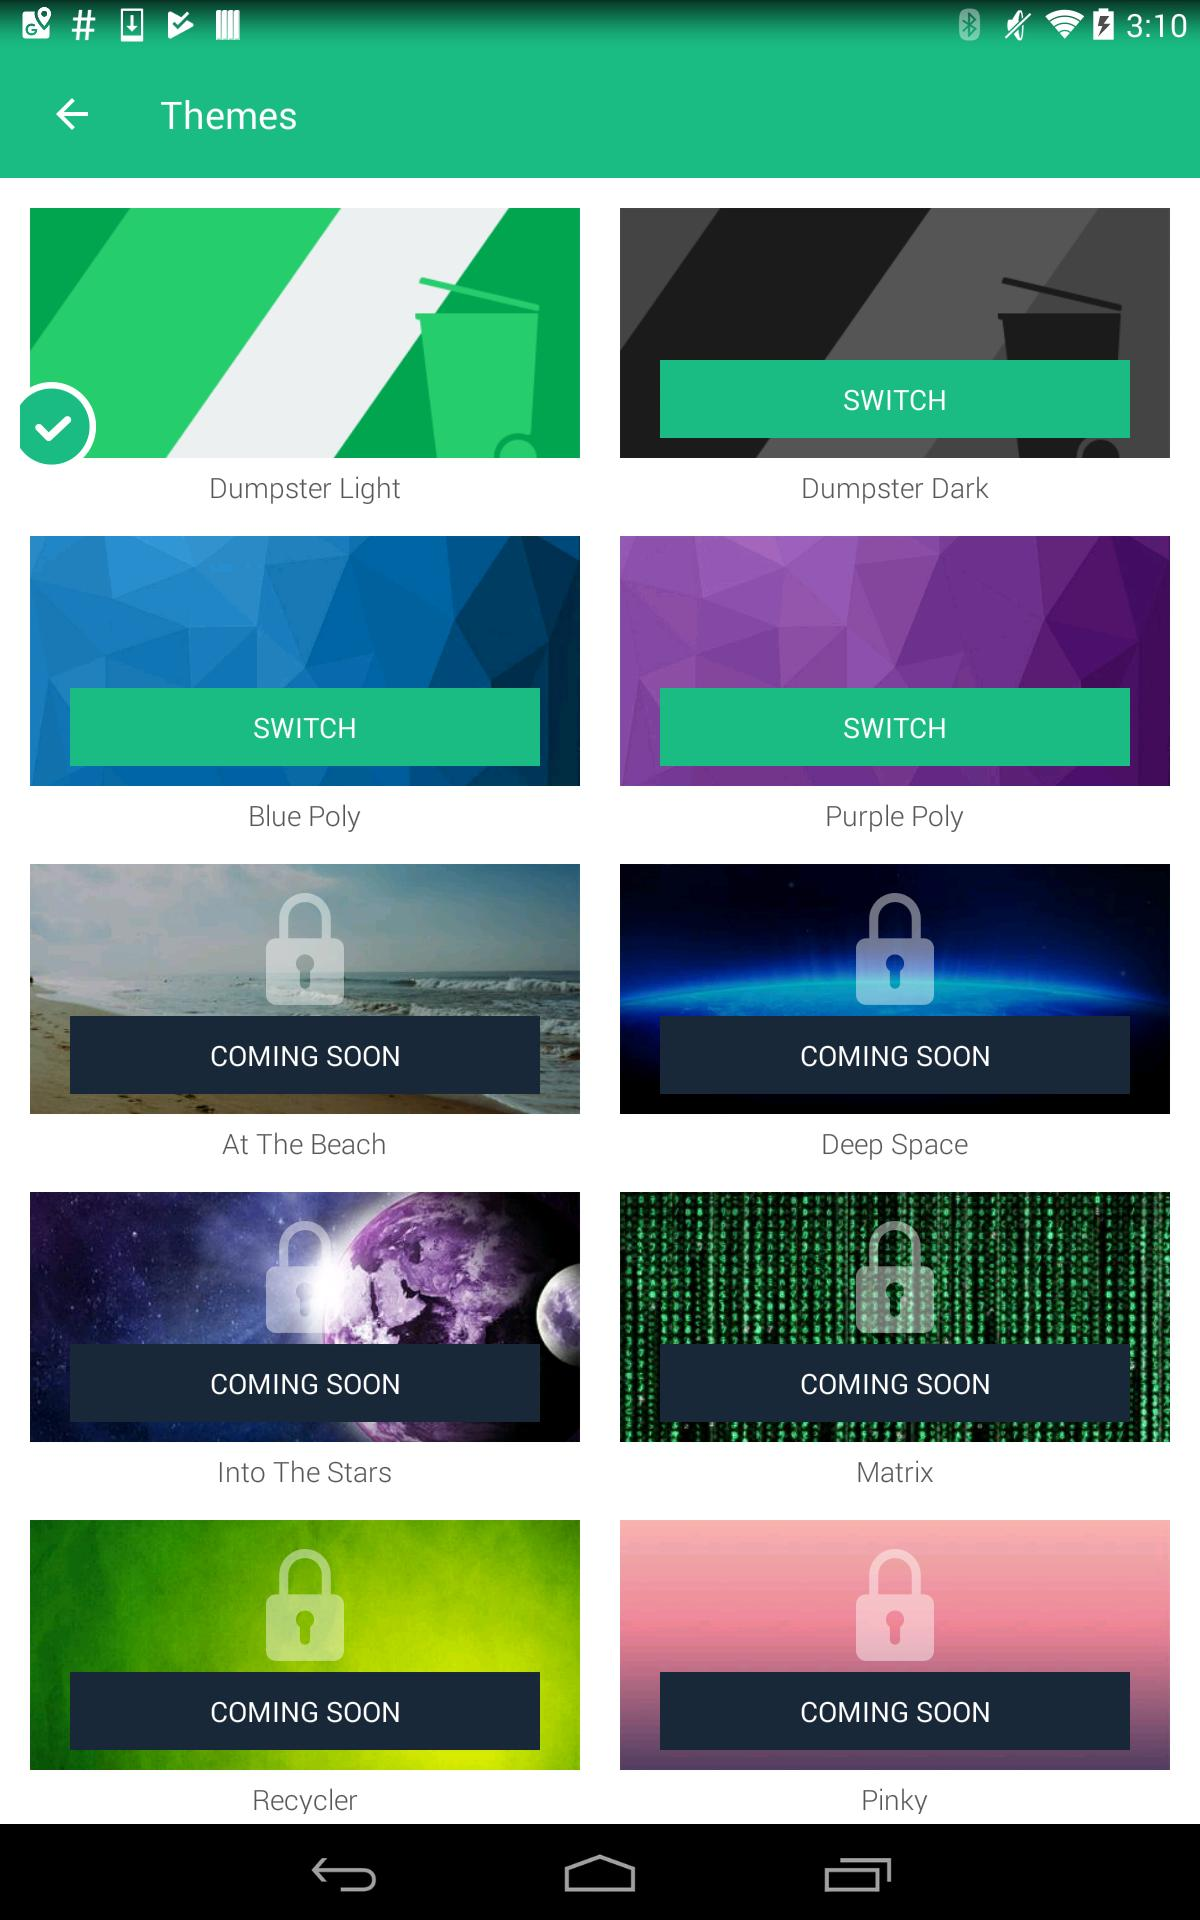android.support.v7.widget.RecyclerView: (0, 178, 1200, 1825)
android.view.View: (0, 50, 1200, 178), (30, 207, 581, 458), (619, 207, 1170, 458), (30, 536, 581, 787), (619, 536, 1170, 787), (30, 864, 581, 1114), (619, 864, 1170, 1114), (30, 1192, 581, 1442), (619, 1192, 1170, 1442), (30, 1521, 581, 1769), (619, 1521, 1170, 1769)
android.widget.Button: (659, 359, 1129, 438), (71, 1344, 541, 1422), (659, 1344, 1129, 1422), (71, 688, 541, 766), (659, 688, 1129, 766), (71, 1016, 541, 1093), (659, 1016, 1129, 1093), (71, 1673, 541, 1750), (659, 1673, 1129, 1750)
android.widget.FrameLayout: (0, 0, 1200, 1825), (30, 207, 581, 458), (619, 207, 1170, 458), (30, 536, 581, 787), (619, 536, 1170, 787), (30, 864, 581, 1114), (619, 864, 1170, 1114), (30, 1192, 581, 1442), (619, 1192, 1170, 1442), (30, 1521, 581, 1769), (619, 1521, 1170, 1769), (659, 359, 1129, 438), (71, 1344, 541, 1422), (659, 1344, 1129, 1422), (71, 688, 541, 766), (659, 688, 1129, 766), (71, 1016, 541, 1093), (659, 1016, 1129, 1093), (71, 1673, 541, 1750), (659, 1673, 1129, 1750)
android.widget.ImageButton: (17, 50, 129, 178)
android.widget.ImageView: (30, 207, 581, 458), (619, 207, 1170, 458), (30, 536, 581, 787), (619, 536, 1170, 787), (30, 864, 581, 1114), (619, 864, 1170, 1114), (30, 1192, 581, 1442), (619, 1192, 1170, 1442), (30, 1521, 581, 1769), (619, 1521, 1170, 1769), (265, 893, 344, 1005), (856, 893, 935, 1005), (265, 1221, 344, 1333), (856, 1221, 935, 1333), (265, 1550, 344, 1662), (856, 1550, 935, 1662), (7, 382, 95, 471)
android.widget.LinearLayout: (0, 0, 1200, 1825), (0, 178, 1200, 1825), (0, 50, 1200, 178)
android.widget.RelativeLayout: (19, 198, 590, 506), (610, 198, 1181, 506), (19, 854, 590, 1163), (610, 854, 1181, 1163), (19, 1182, 590, 1490), (610, 1182, 1181, 1490), (19, 1509, 590, 1818), (610, 1509, 1181, 1818), (19, 527, 590, 834), (610, 527, 1181, 834)
android.widget.TextView: (209, 469, 401, 506), (160, 88, 299, 140), (800, 469, 988, 506), (217, 1451, 393, 1490), (223, 1124, 387, 1163), (821, 1124, 968, 1163), (825, 796, 964, 834), (247, 796, 361, 834), (252, 1780, 358, 1818), (856, 1451, 935, 1490), (861, 1780, 928, 1818)
